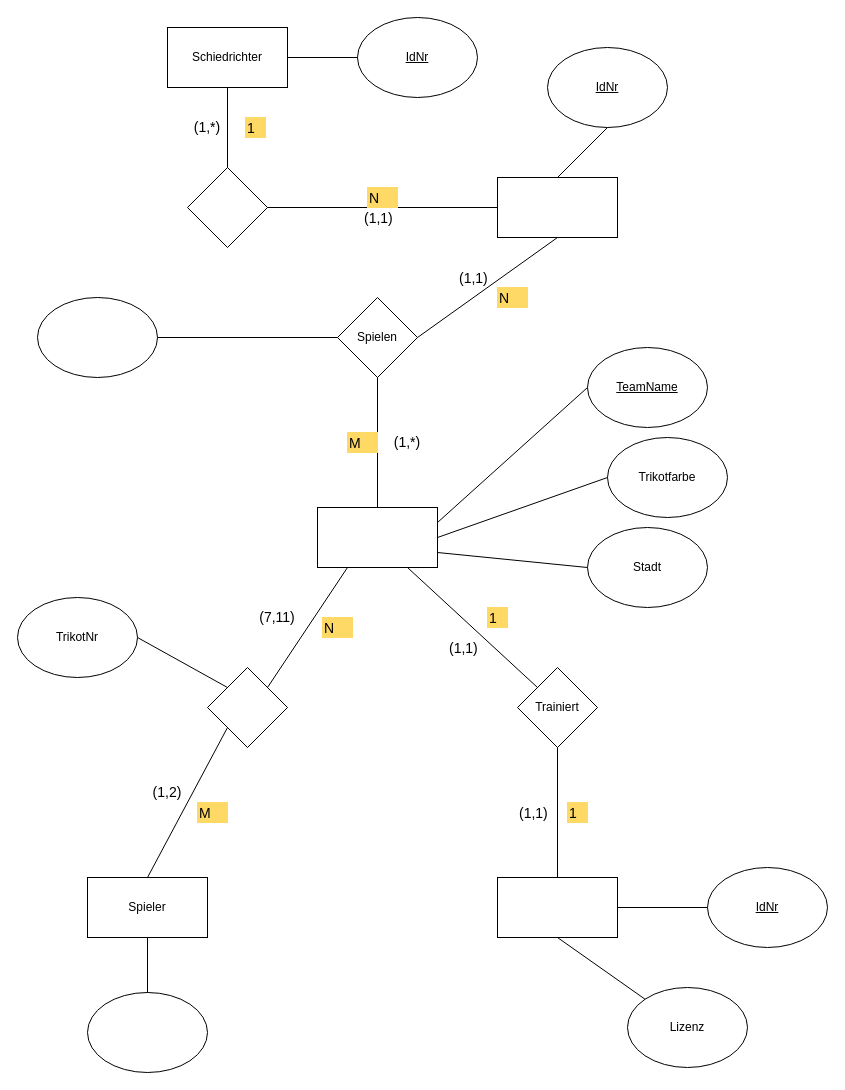
The diagram is 845 pixels wide and 1090 high, and some of its shapes have lost their labels. The shapes that lost their labels are listed below. From the top down, each one's box as (x1, y1, x2, y2) in pixels, then its label:
(186, 166, 268, 248): leitet
(496, 176, 618, 238): Fussballspiel
(36, 296, 158, 378): Spielergebnisse
(316, 506, 438, 568): Team
(206, 666, 288, 748): Spielt in
(496, 876, 618, 938): Trainer
(86, 992, 208, 1072): SpielerName
